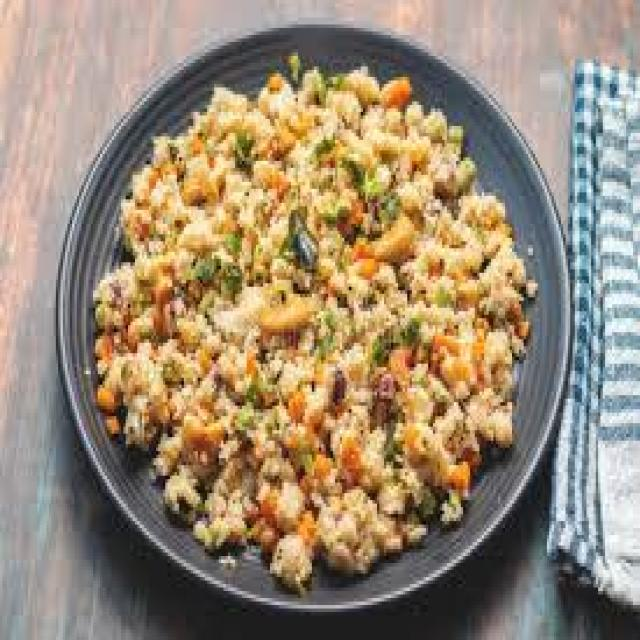UPMA: (91, 59, 533, 584)
